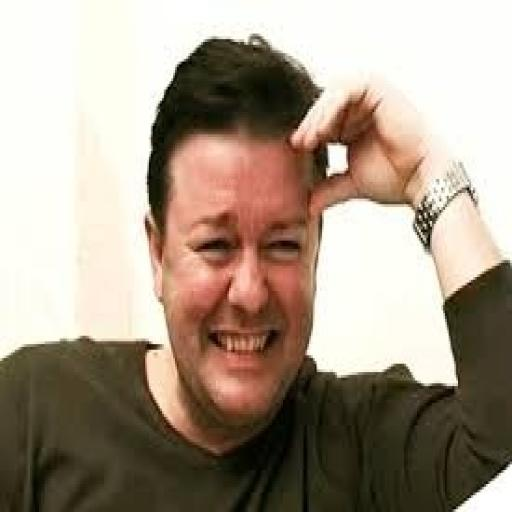laughing: (2, 25, 506, 504)
